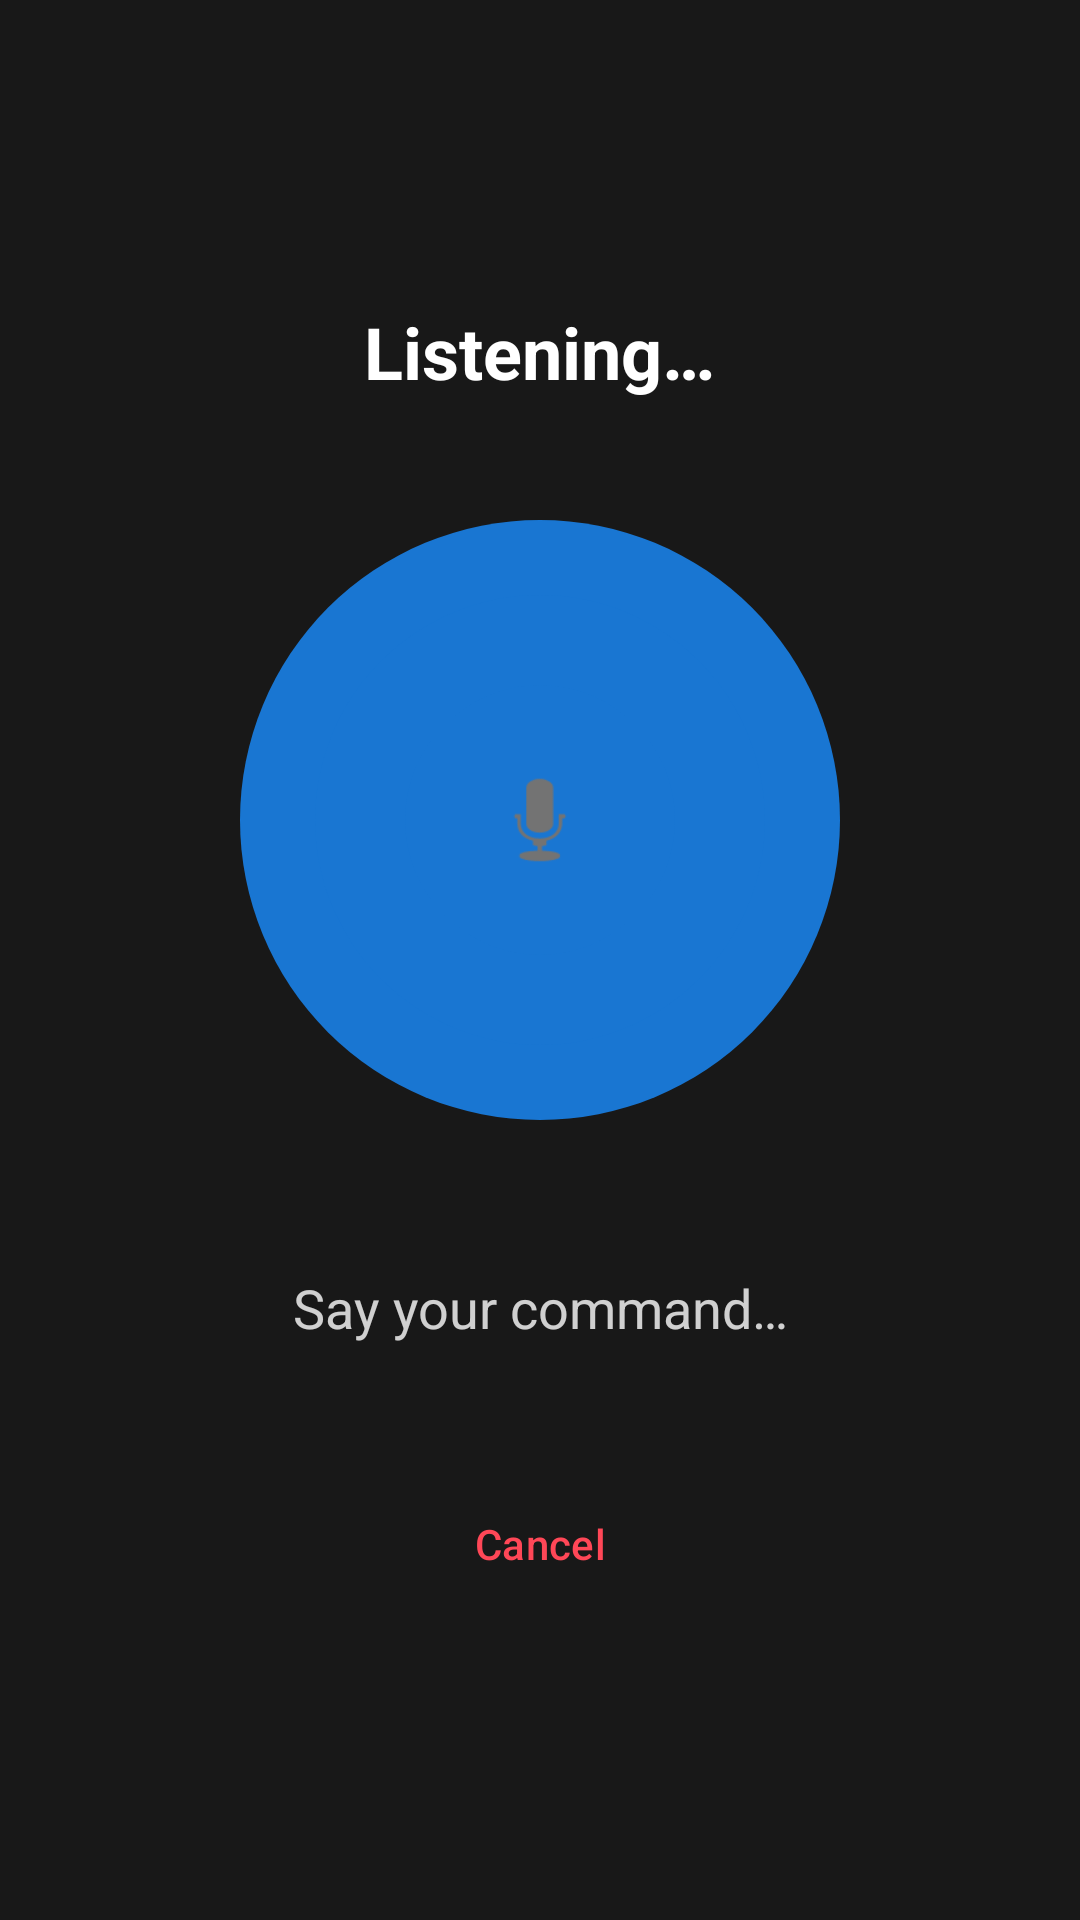

Named icons in this screenshot (1080*1920) and their bounding boxes, bbox=[x1, y1, x2, y2]:
Mic: bbox=[514, 779, 566, 861]
